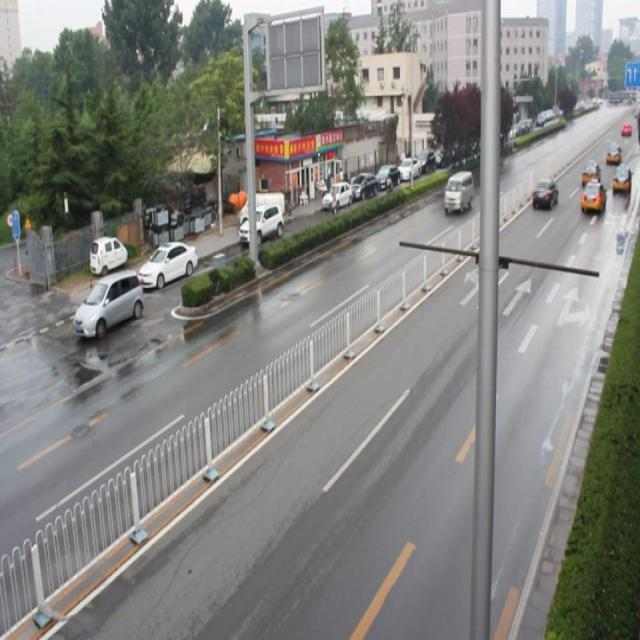car: (578, 178, 604, 214), (531, 177, 556, 209), (578, 159, 600, 187), (611, 165, 628, 193)
truck: (443, 168, 472, 214)
